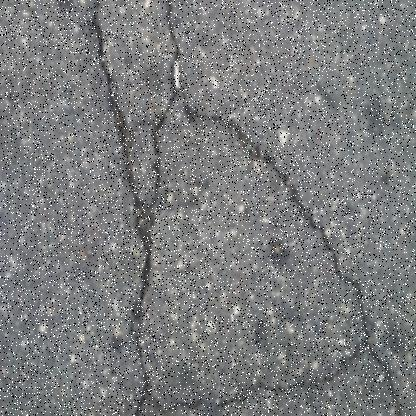Cracks: (89, 0, 408, 416)
